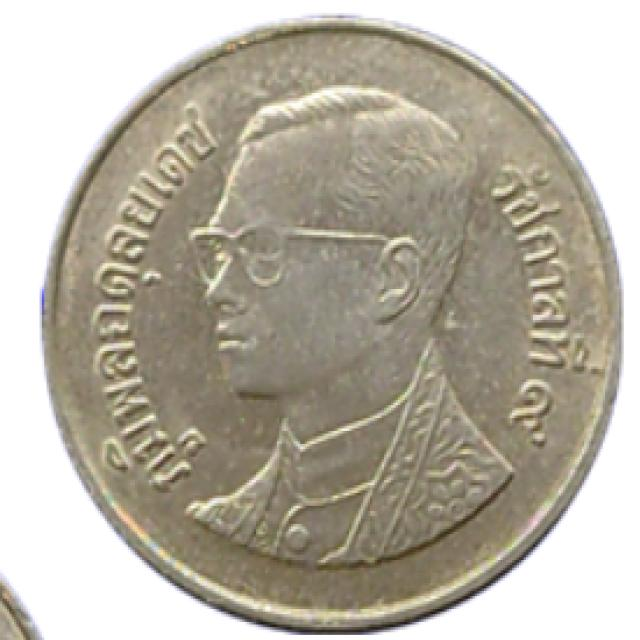1 Bath: (29, 3, 631, 638)
